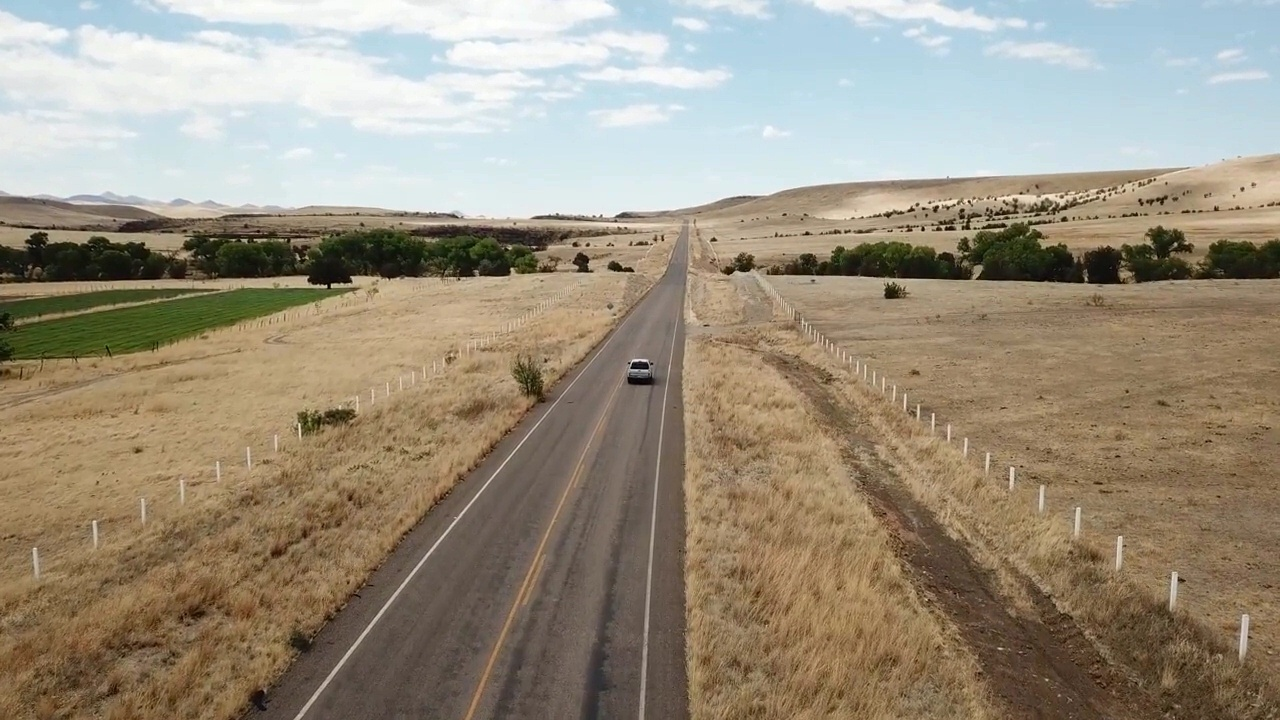araba: (626, 356, 655, 384)
